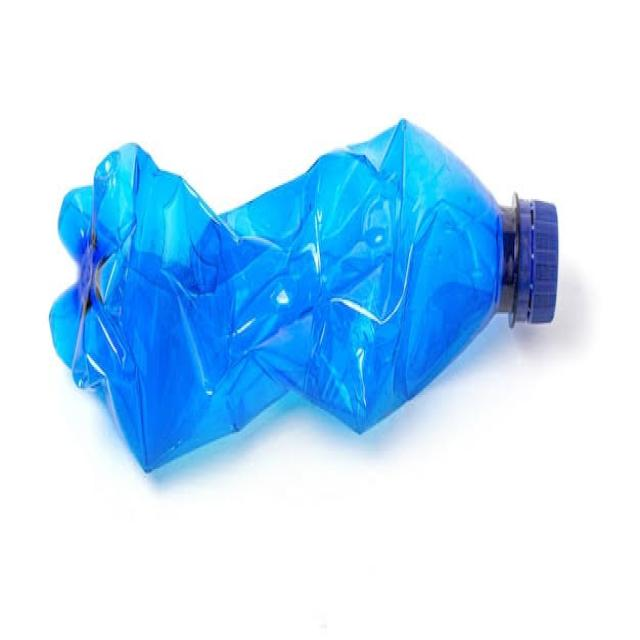plastic bottle: (41, 83, 569, 472)
